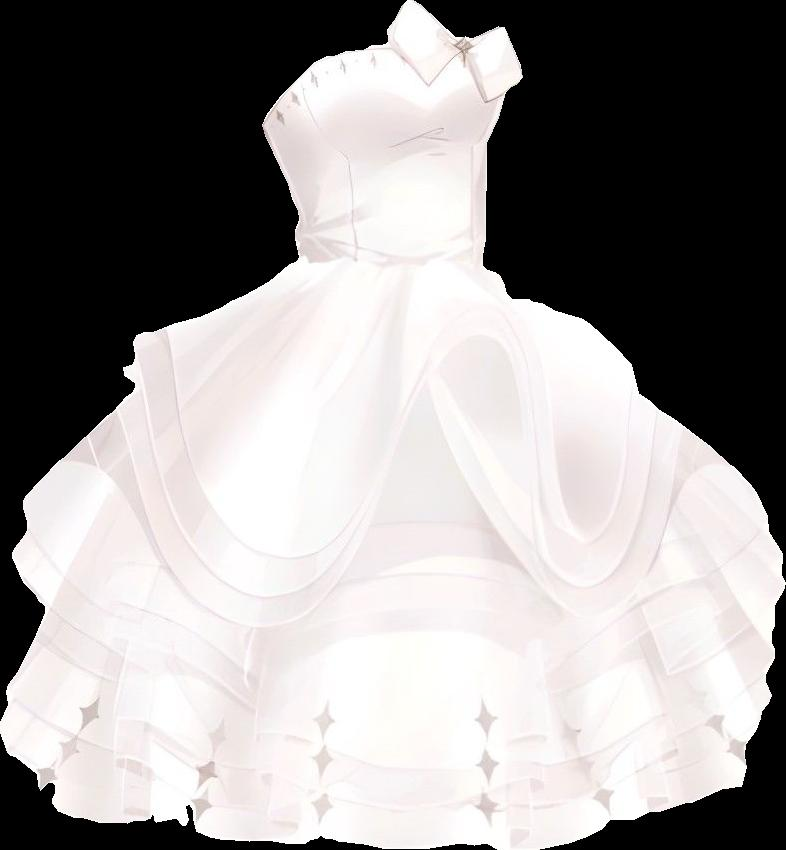Bodice: (262, 38, 512, 275)
Hemline: (18, 502, 785, 759), (4, 563, 769, 807), (135, 318, 657, 595), (0, 689, 775, 849)
Neckline: (260, 37, 511, 127)
Skirt: (0, 259, 784, 849)
Waistline: (294, 250, 487, 280)
